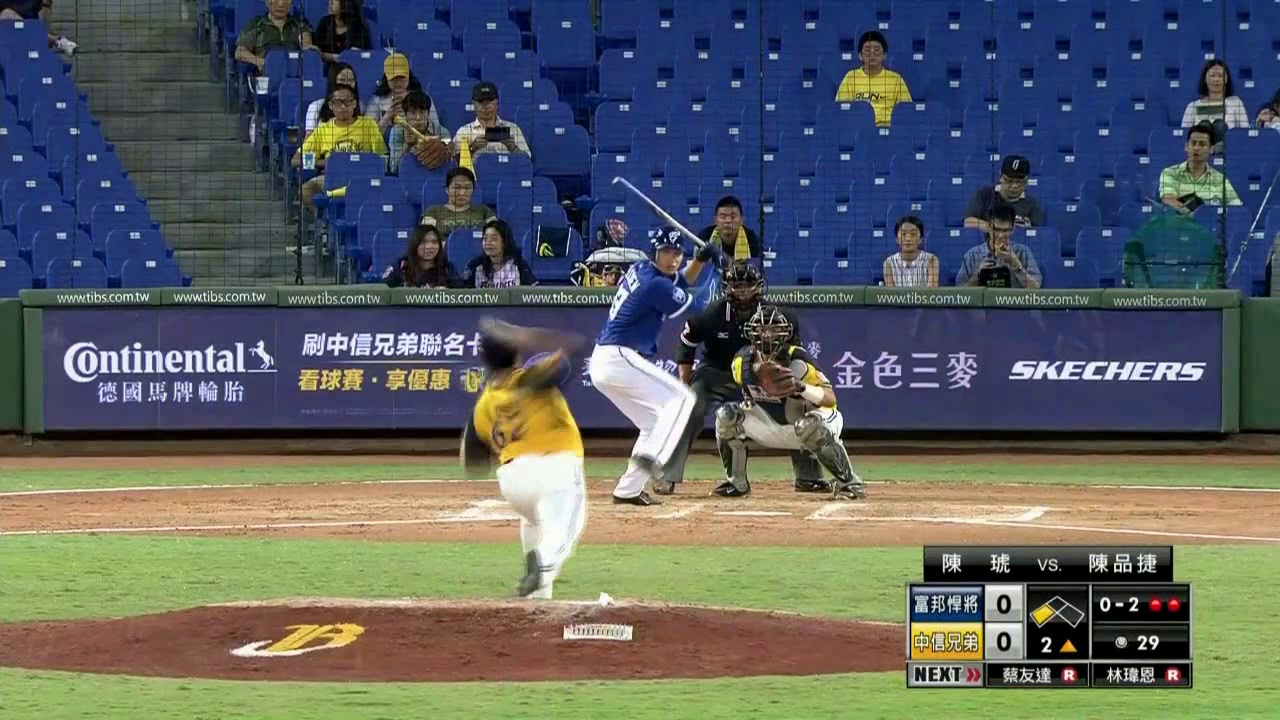ball: (475, 312, 499, 335)
base: (1028, 595, 1088, 630)
bat: (607, 170, 710, 250)
out: (1144, 593, 1185, 616)
score1: (986, 588, 1019, 618)
score2: (986, 623, 1022, 657)
session: (1030, 634, 1087, 657)
strikeball: (1094, 593, 1143, 616)
total: (1093, 628, 1187, 657)
